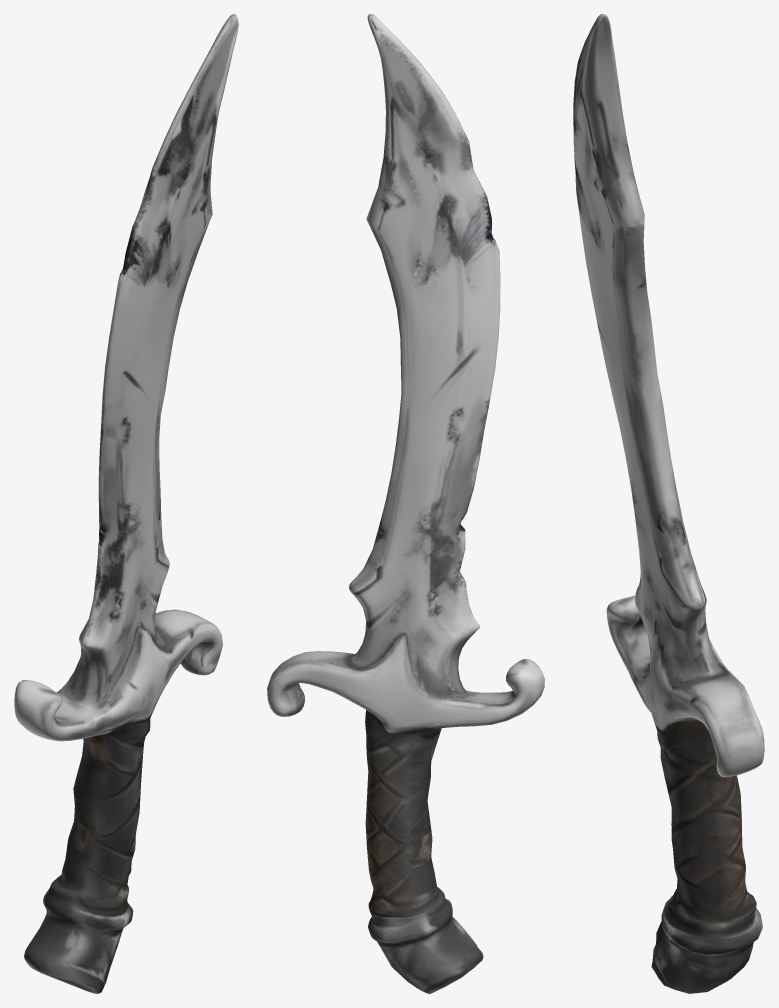
The model's file is astralite_scim.glb.
3 renders of one model, left to right at view 1: azimuth 30°, elevation 25°; view 2: azimuth 150°, elevation 25°; view 3: azimuth 270°, elevation 25°, orthographic. The views are drawn at different scales.
Visible parts, largest first — view 1: astralite_scim_mesh; view 2: astralite_scim_mesh; view 3: astralite_scim_mesh.
Boxes of the visible parts, x1,y1,x2,y2 form: astralite_scim_mesh: [14, 14, 238, 993]; astralite_scim_mesh: [267, 14, 544, 993]; astralite_scim_mesh: [573, 14, 764, 993].
Bounding box in the file's own units: 0.593 × 2.27 × 0.381.
Materials: 1 (1 with a texture image).
